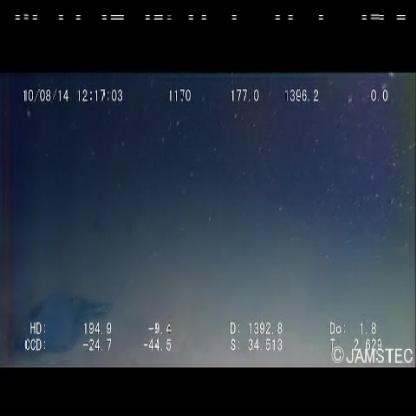Rác: (27, 288, 113, 351)
